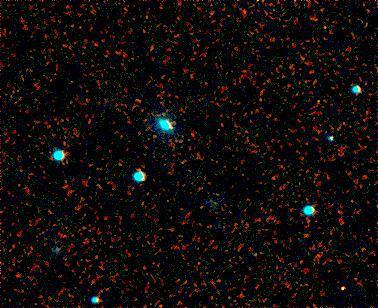star: (334, 274, 364, 304)
